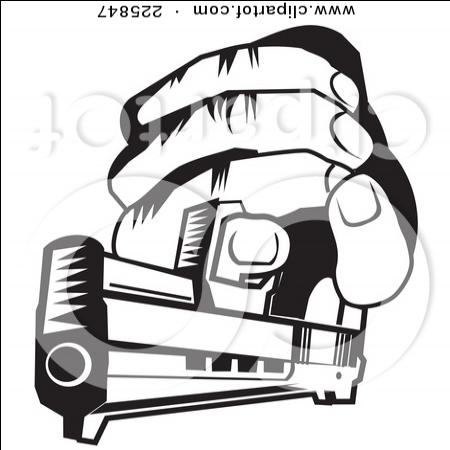Pistol: (30, 214, 367, 446)
